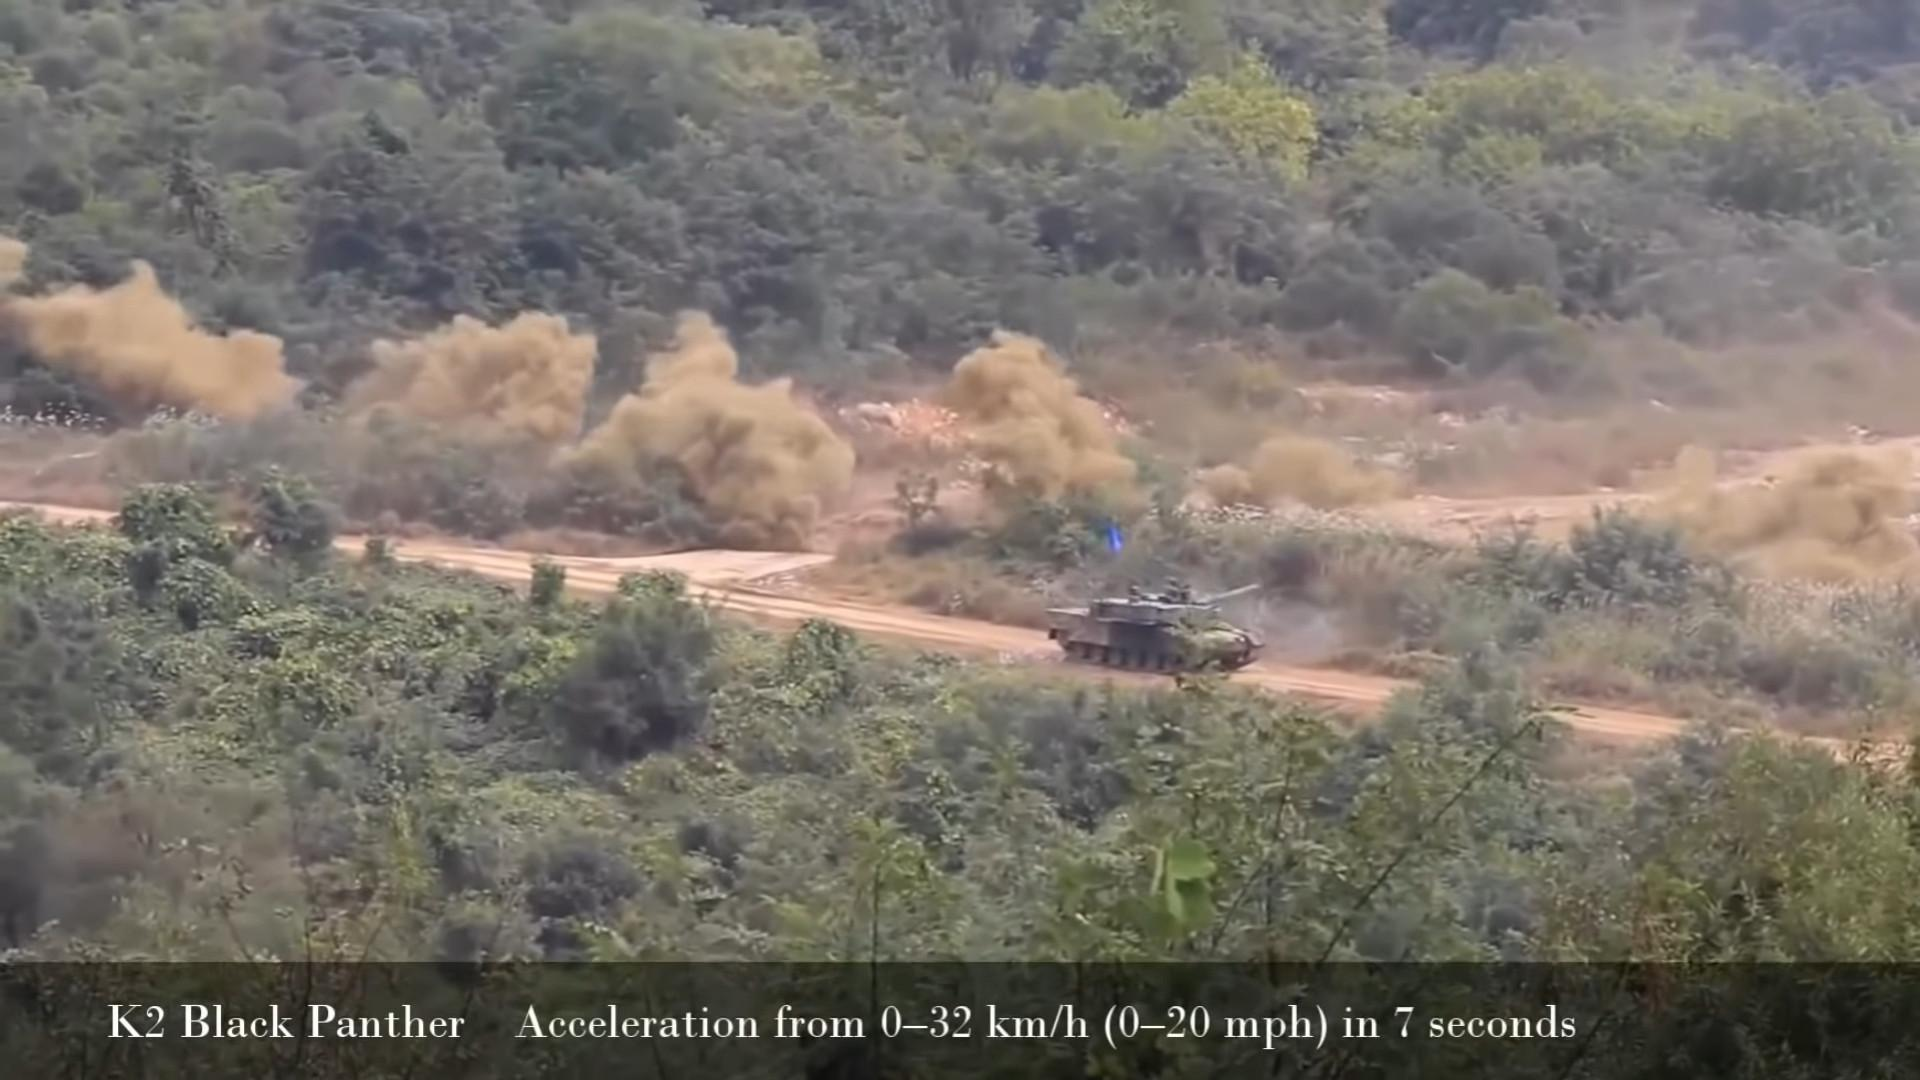tank: (1048, 585, 1262, 674)
